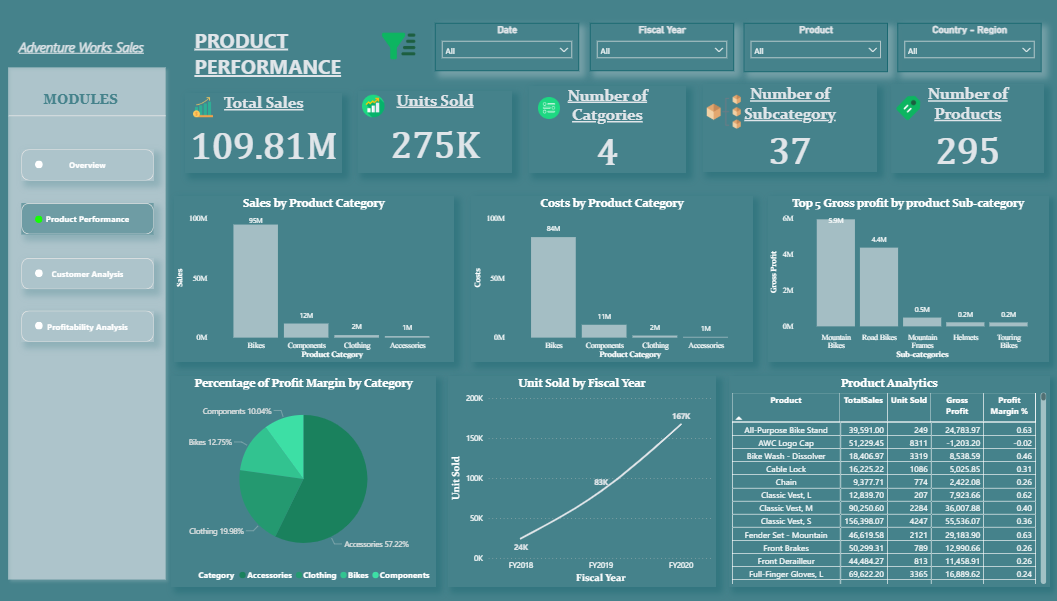

The dashboard page shown, as its layout file describes it:
{"tool":"powerbi","page":{"name":"Product Performance","canvas":[1700,1000],"ordinal":1},"visuals":[{"type":"textbox","box":[13.5,57.6,232.3,45.6],"z":0},{"type":"shape","box":[3.8,102.5,270,837.5],"z":1000},{"type":"textbox","box":[56.2,146.2,146.2,41.2],"z":2000},{"type":"textbox","box":[306,40,266,100],"z":3000},{"type":"slicer","title":"Date","fields":{"Values":["Dim_Date.Date"]},"box":[695,39.5,230,76.7],"z":4000},{"type":"slicer","title":"Product","fields":{"Values":["Dim_Product.Product"]},"box":[1190,39.5,230,78.3],"z":5000},{"type":"slicer","title":"Country - Region","fields":{"Values":["Dim_Customer.Country-Region"]},"box":[1435,39.5,230,78.3],"z":6000},{"type":"card","title":"Total Sales","fields":{"Values":["Measures_.TotalSales"]},"box":[296,152,252,128],"z":7000},{"type":"card","title":"Units Sold","fields":{"Values":["Measures_.Unit Sold"]},"box":[572,148,248,132],"z":8000},{"type":"card","title":"Number of Catgories","fields":{"Values":["Count(Dim_Product.Category)"]},"box":[845,140,251.7,140],"z":9000},{"type":"card","title":"Number of Subcategory","fields":{"Values":["Count(Dim_Product.Subcategory)"]},"box":[1124,138.7,280,140],"z":10000},{"type":"image","box":[572,150,50,46],"z":11000},{"type":"image","box":[296,154,58,42],"z":12000},{"type":"columnChart","title":"Sales by Product Category ","fields":{"Y":["Sum(Fact_Sales.Sales Amount)"],"Category":["Dim_Product.Category"]},"box":[278,316,448,266],"z":13000},{"type":"image","box":[591.7,42.8,90,70],"z":14000},{"type":"lineChart","fields":{"Category":["Dim_Date.Fiscal Year"],"Y":["Measures_.Unit Sold"]},"box":[715,603.3,430,338.3],"z":15000},{"type":"slicer","title":"Fiscal Year","fields":{"Values":["Dim_Date.Fiscal Year"]},"box":[943.3,39.5,230,76.7],"z":16000},{"type":"columnChart","title":"Costs by Product Category ","fields":{"Y":["Sum(Fact_Sales.Total Product Cost)"],"Category":["Dim_Product.Category"]},"box":[754,316,450,266],"z":17000},{"type":"pageNavigator","box":[33.8,241.2,212.5,50],"z":18000},{"type":"shape","box":[13.8,181.2,251.2,12.5],"z":19000},{"type":"shape","box":[55,260,12.5,12.5],"z":20000},{"type":"pageNavigator","box":[34,328,212,50],"z":21000},{"type":"pageNavigator","box":[33.8,415,212.5,50],"z":22000},{"type":"shape","box":[55,433.8,12.5,12.5],"z":23000},{"type":"pageNavigator","box":[33.8,500,212.5,50],"z":24000},{"type":"shape","box":[55,518.8,12.5,12.5],"z":25000},{"type":"shape","box":[56,348,12,12],"z":26000},{"type":"card","title":"Number of Products","fields":{"Values":["Count(Dim_Product.Product)"]},"box":[1426.7,138.3,245,141.7],"z":27000},{"type":"image","box":[855,151,45,48.3],"z":28000},{"type":"image","box":[1420,150,66,52],"z":29000},{"type":"image","box":[1126,150.7,64,64],"z":30000},{"type":"pieChart","title":"Percentage of Profit Margin by Category","fields":{"Y":["Measures_.Profit Margin %"],"Category":["Dim_Product.Category"]},"box":[273.3,603.3,423.3,338.3],"z":31000},{"type":"columnChart","title":"Top 5 Gross profit by product Sub-category","fields":{"Category":["Dim_Product.Subcategory"],"Y":["Measures_.Gross Profit"]},"box":[1228,316,450,266],"z":32000},{"type":"pivotTable","title":"Product Analytics","fields":{"Rows":["Dim_Product.Product"],"Values":["Measures_.TotalSales","Measures_.Unit Sold","Measures_.Gross Profit","Measures_.Profit Margin %"]},"box":[1165,603.3,513.3,338.3],"z":33000}]}

Visuals, with their boxes on the page's 1700x1000 design canvas (x1, y1, x2, y2). These are canvas units, not pixel positions in the 1057x601 screenshot, which may show the page scaled, cropped or inside an application window:
textbox: [x1=14, y1=58, x2=246, y2=103]
shape: [x1=4, y1=102, x2=274, y2=940]
textbox: [x1=56, y1=146, x2=202, y2=187]
textbox: [x1=306, y1=40, x2=572, y2=140]
"Date" slicer: [x1=695, y1=40, x2=925, y2=116]
"Product" slicer: [x1=1190, y1=40, x2=1420, y2=118]
"Country - Region" slicer: [x1=1435, y1=40, x2=1665, y2=118]
"Total Sales" card: [x1=296, y1=152, x2=548, y2=280]
"Units Sold" card: [x1=572, y1=148, x2=820, y2=280]
"Number of Catgories" card: [x1=845, y1=140, x2=1097, y2=280]
"Number of Subcategory" card: [x1=1124, y1=139, x2=1404, y2=279]
image: [x1=572, y1=150, x2=622, y2=196]
image: [x1=296, y1=154, x2=354, y2=196]
"Sales by Product Category " columnChart: [x1=278, y1=316, x2=726, y2=582]
image: [x1=592, y1=43, x2=682, y2=113]
lineChart - Dim_Date.Fiscal Year x Measures_.Unit Sold: [x1=715, y1=603, x2=1145, y2=942]
"Fiscal Year" slicer: [x1=943, y1=40, x2=1173, y2=116]
"Costs by Product Category " columnChart: [x1=754, y1=316, x2=1204, y2=582]
pageNavigator: [x1=34, y1=241, x2=246, y2=291]
shape: [x1=14, y1=181, x2=265, y2=194]
shape: [x1=55, y1=260, x2=68, y2=272]
pageNavigator: [x1=34, y1=328, x2=246, y2=378]
pageNavigator: [x1=34, y1=415, x2=246, y2=465]
shape: [x1=55, y1=434, x2=68, y2=446]
pageNavigator: [x1=34, y1=500, x2=246, y2=550]
shape: [x1=55, y1=519, x2=68, y2=531]
shape: [x1=56, y1=348, x2=68, y2=360]
"Number of Products" card: [x1=1427, y1=138, x2=1672, y2=280]
image: [x1=855, y1=151, x2=900, y2=199]
image: [x1=1420, y1=150, x2=1486, y2=202]
image: [x1=1126, y1=151, x2=1190, y2=215]
"Percentage of Profit Margin by Category" pieChart: [x1=273, y1=603, x2=697, y2=942]
"Top 5 Gross profit by product Sub-category" columnChart: [x1=1228, y1=316, x2=1678, y2=582]
"Product Analytics" pivotTable: [x1=1165, y1=603, x2=1678, y2=942]
